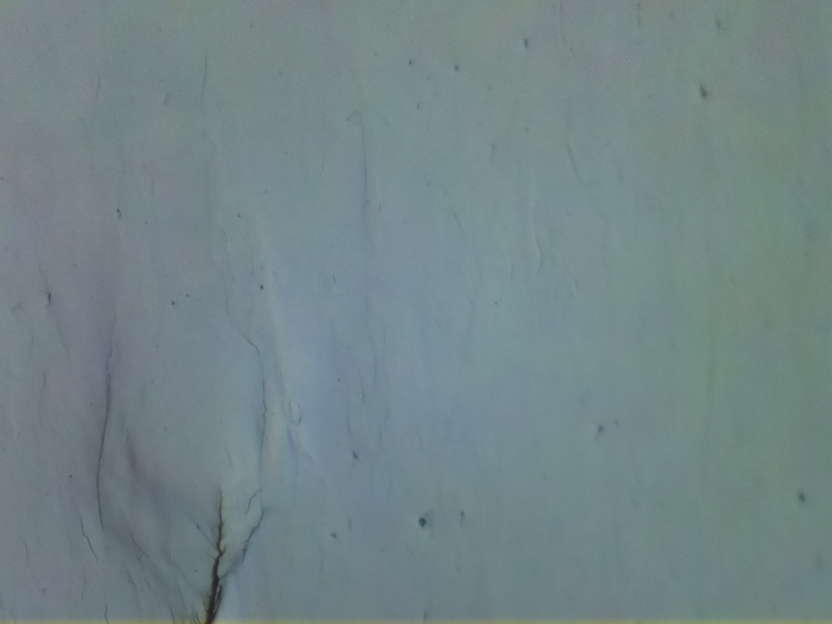crack: (202, 485, 228, 624)
